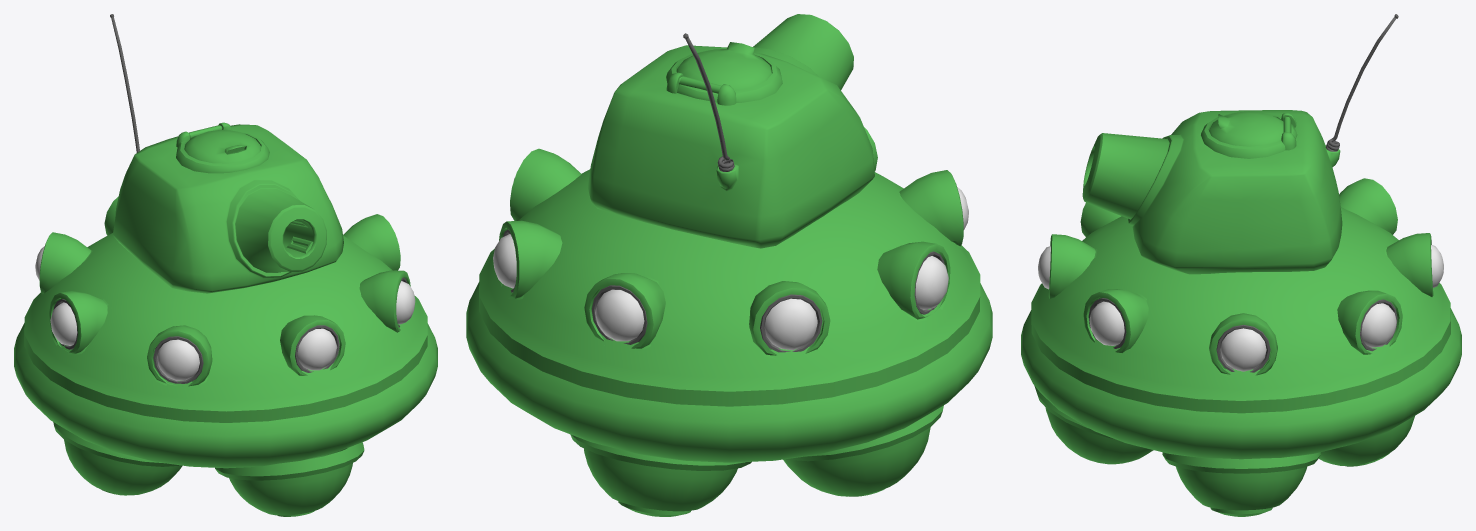
The model's file is Tank_UFO_Model.fbx.
The picture shows the model from 3 angles, left to right: view 1: azimuth 30°, elevation 25°; view 2: azimuth 150°, elevation 25°; view 3: azimuth 270°, elevation 25°; orthographic projection. The views are drawn at different scales.
Parts seen in each view (by area): view 1: TankChassis, TankTurret; view 2: TankChassis, TankTurret; view 3: TankChassis, TankTurret.
Part boxes in pixels (bbox=[...]): TankChassis: bbox=[14, 196, 437, 516]; TankTurret: bbox=[110, 14, 343, 293]; TankChassis: bbox=[466, 127, 992, 516]; TankTurret: bbox=[587, 14, 874, 248]; TankChassis: bbox=[1021, 178, 1461, 516]; TankTurret: bbox=[1082, 14, 1398, 274].
Size of the model in its own units: 279 by 295 by 277.
